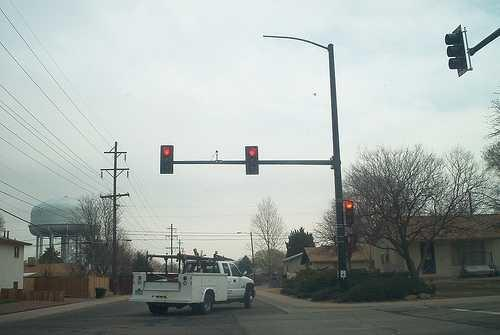red: (244, 145, 259, 172), (160, 147, 173, 174), (344, 199, 355, 227), (162, 146, 172, 157), (246, 147, 257, 157), (344, 199, 353, 210)
